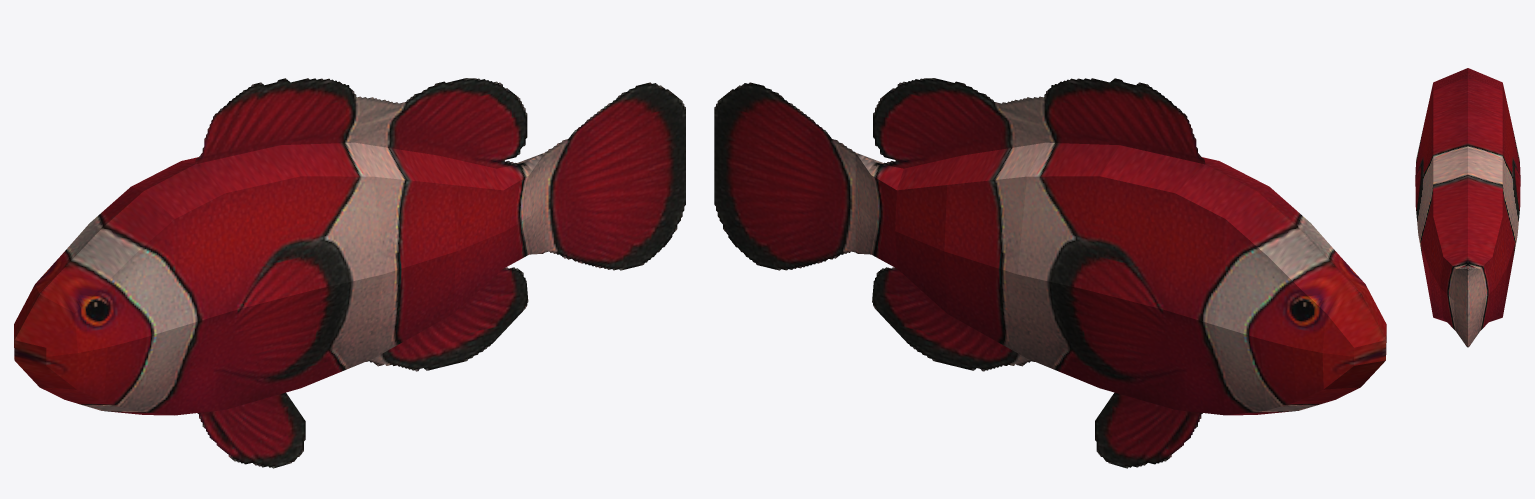
File: Krymgill.fbx
3 renders of one model, left to right at view 1: azimuth 30°, elevation 25°; view 2: azimuth 150°, elevation 25°; view 3: azimuth 270°, elevation 25°, orthographic. The views are drawn at different scales.
Visible parts, largest first — view 1: Clownfish; view 2: Clownfish; view 3: Clownfish.
Part boxes in pixels (<box>): Clownfish: <box>14,78,685,468</box>; Clownfish: <box>714,78,1386,468</box>; Clownfish: <box>1415,68,1520,347</box>.
Size of the model in its own units: 106 by 62.66 by 18.18.
Materials: 1 (1 with a texture image).
